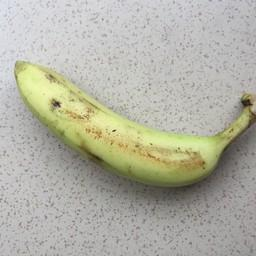Good_banana: (9, 41, 253, 187)
